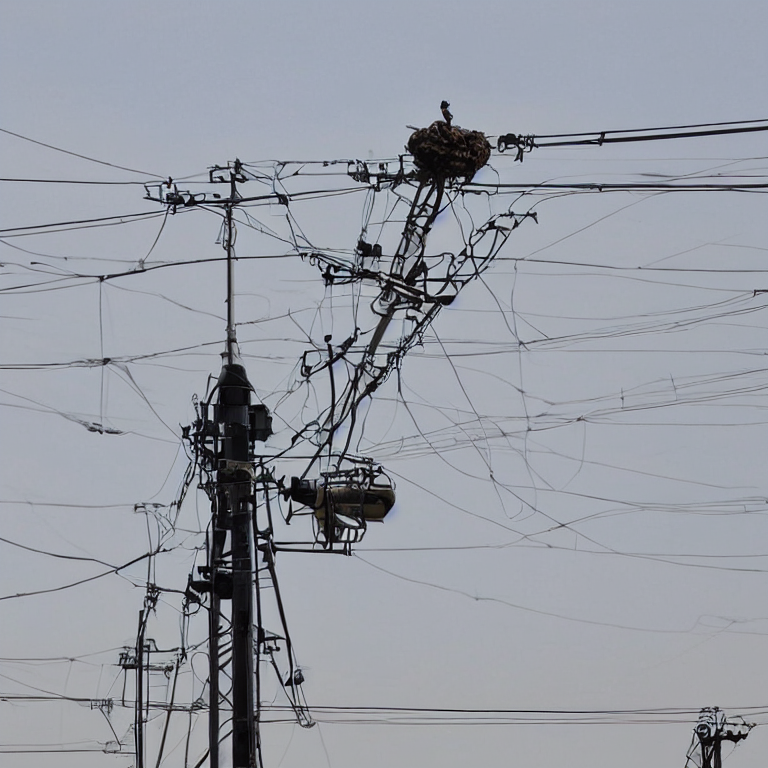nest: (408, 124, 491, 175)
